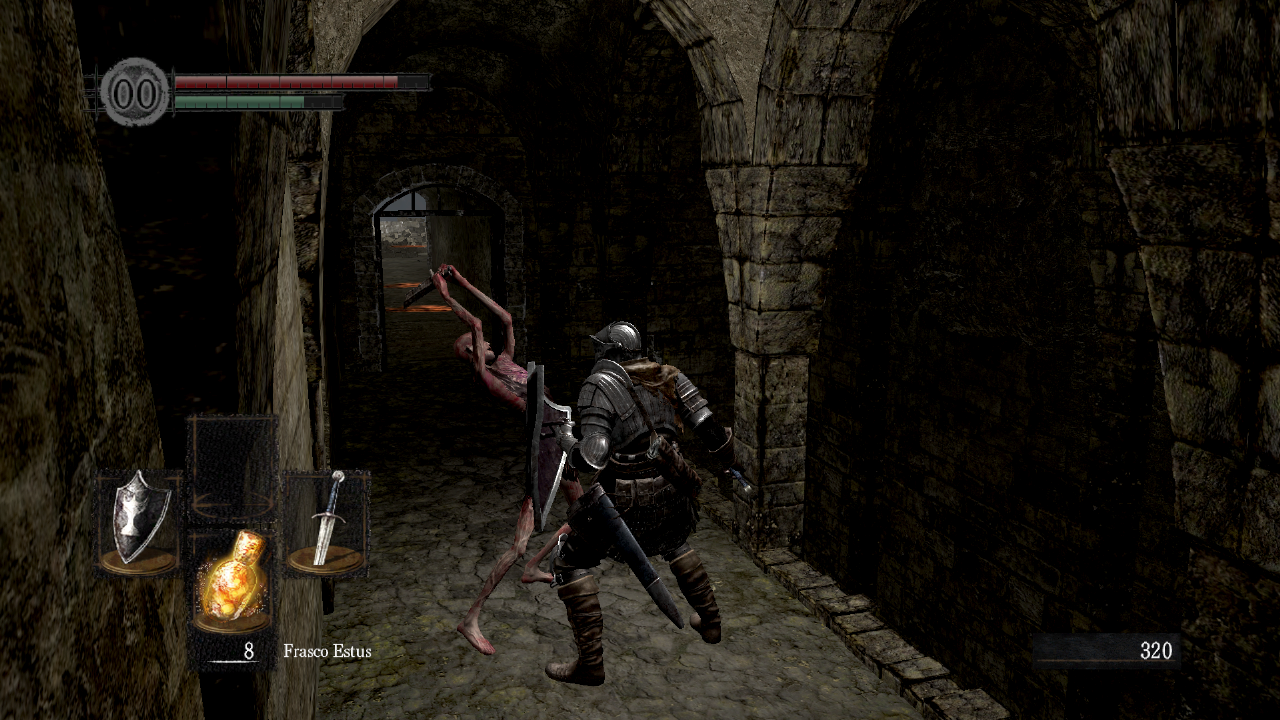hollow: (431, 263, 585, 656)
player: (527, 321, 757, 687)
